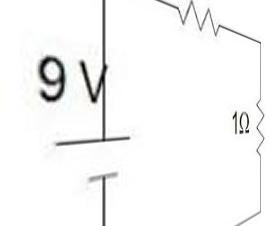resistor: (169, 4, 230, 34), (250, 89, 263, 155)
